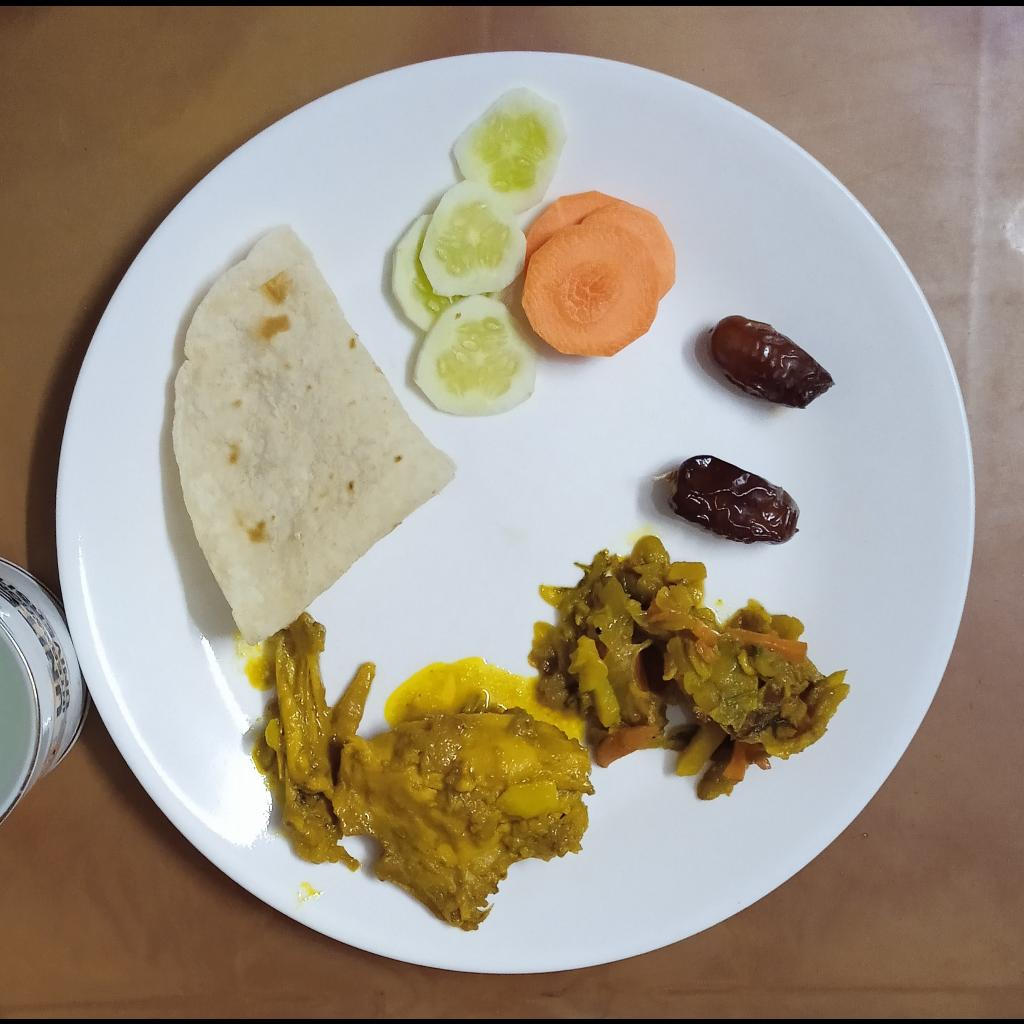carrot: (527, 188, 676, 356)
chicken: (262, 613, 594, 930)
cucumber: (391, 86, 566, 416)
dates: (667, 453, 801, 544), (706, 314, 836, 407)
ruti: (173, 222, 461, 652)
vegetable: (529, 535, 852, 802)
